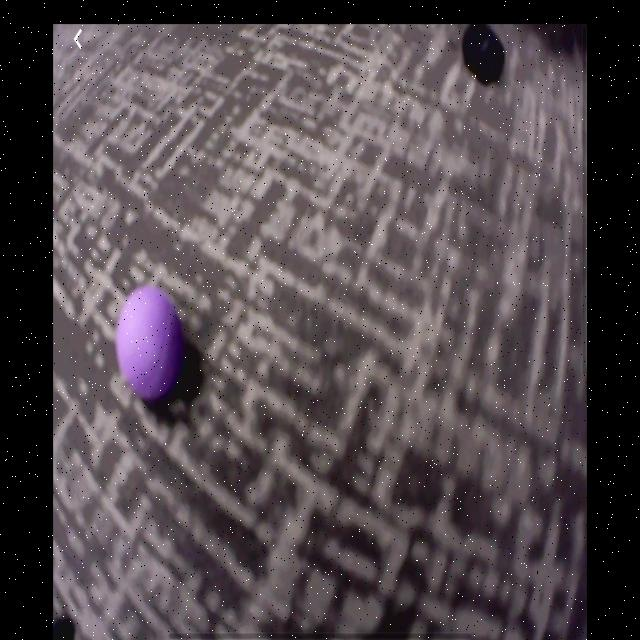ball: (119, 285, 182, 397)
